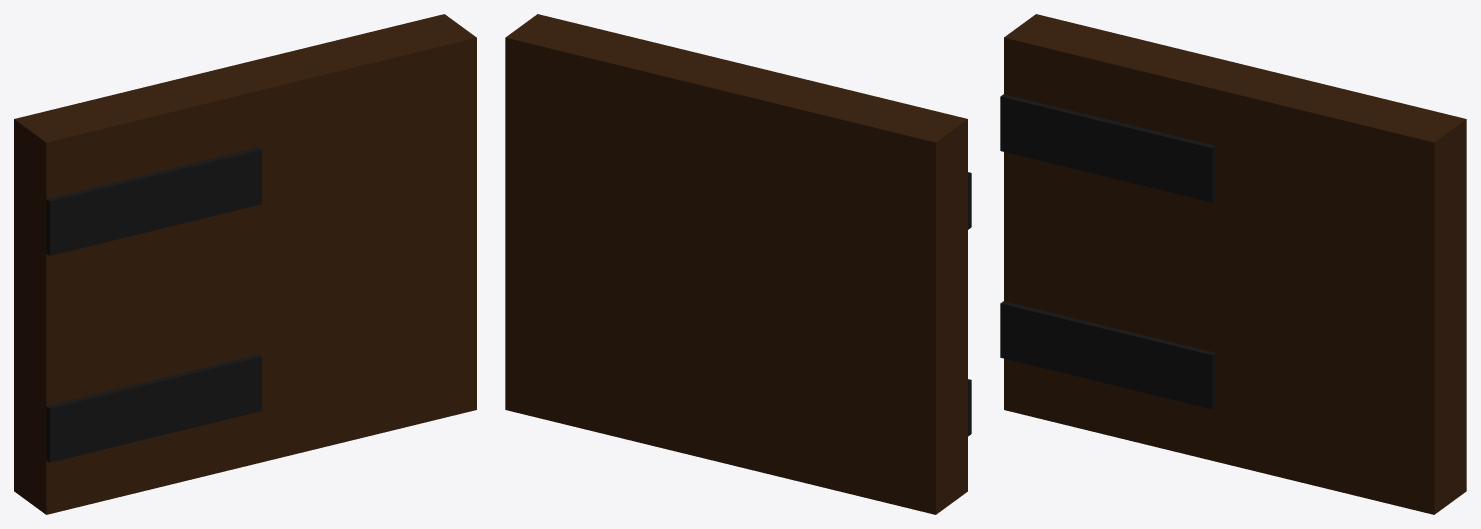
Rendered from Window_Shutter_FBX.fbx.
3 views of the same model, side by side, from view 1: azimuth 30°, elevation 25°; view 2: azimuth 150°, elevation 25°; view 3: azimuth 330°, elevation 25° (orthographic).
Visible parts, largest first — view 1: Window_Pane; view 2: Window_Pane; view 3: Window_Pane.
Boxes of the visible parts, x1,y1,x2,y2 form: Window_Pane: [14, 14, 476, 514]; Window_Pane: [505, 14, 971, 514]; Window_Pane: [1000, 14, 1466, 514].
Bounding box in the file's own units: 183 × 152 × 26.33.
